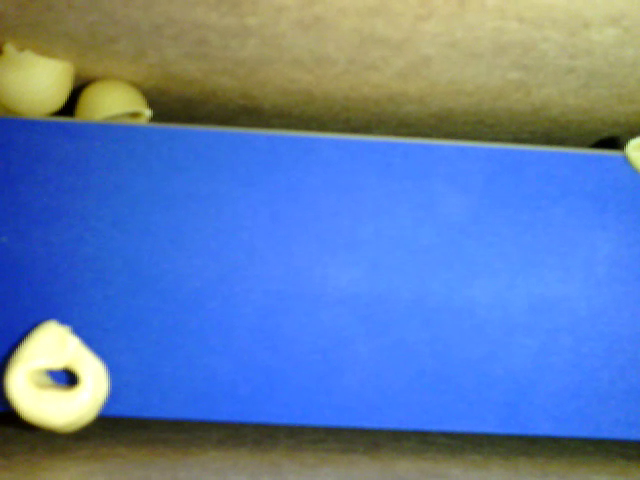shell: (1, 43, 73, 115), (76, 79, 152, 122)
tortellini: (3, 319, 110, 435)
